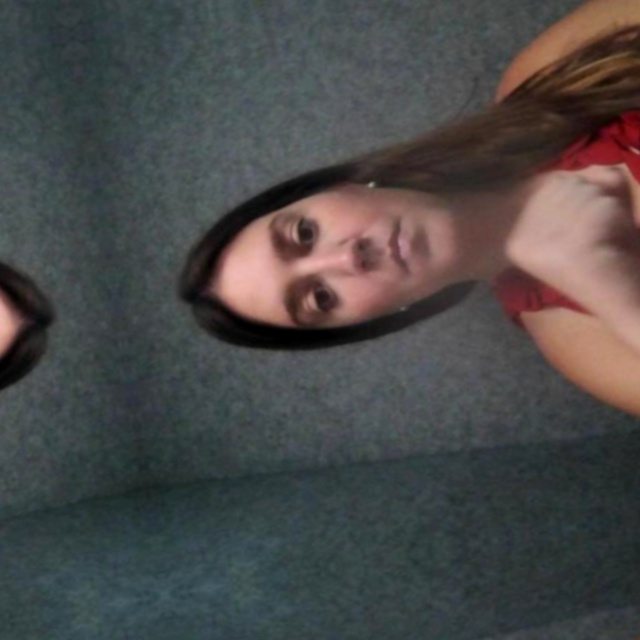Rock: (460, 101, 640, 390)
